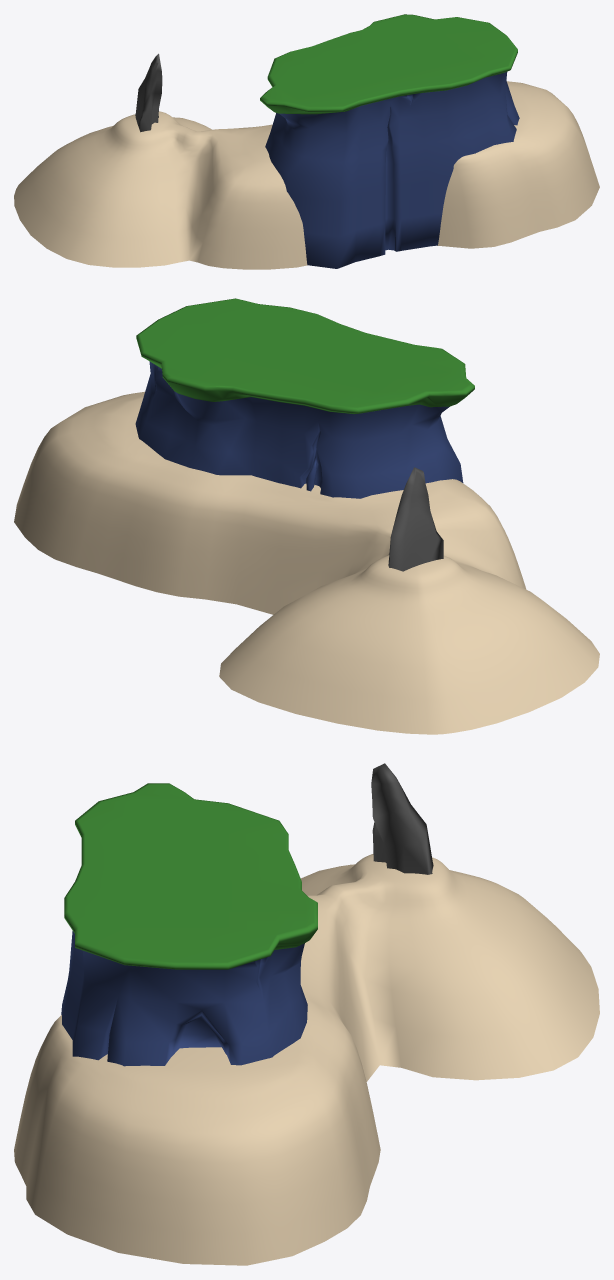
File: ThePlateau_v4.0_Complete.fbx
3 views of the same model, one above another, from view 1: azimuth 30°, elevation 25°; view 2: azimuth 150°, elevation 25°; view 3: azimuth 270°, elevation 25° (orthographic). The views are drawn at different scales.
Visible parts, largest first — view 1: Shore_v2, ThePlateau_v4, OceanRock_v2; view 2: Shore_v2, ThePlateau_v4, OceanRock_v2; view 3: Shore_v2, ThePlateau_v4, OceanRock_v2.
Boxes of the visible parts, <box> form: Shore_v2: <box>14,81,599,269</box>; ThePlateau_v4: <box>260,14,519,268</box>; OceanRock_v2: <box>135,53,162,132</box>; Shore_v2: <box>14,391,599,734</box>; ThePlateau_v4: <box>135,298,474,498</box>; OceanRock_v2: <box>388,467,443,571</box>; Shore_v2: <box>14,854,599,1265</box>; ThePlateau_v4: <box>61,783,317,1066</box>; OceanRock_v2: <box>371,763,433,874</box>.
Bounding box in the file's own units: 103 × 31.3 × 70.41.
